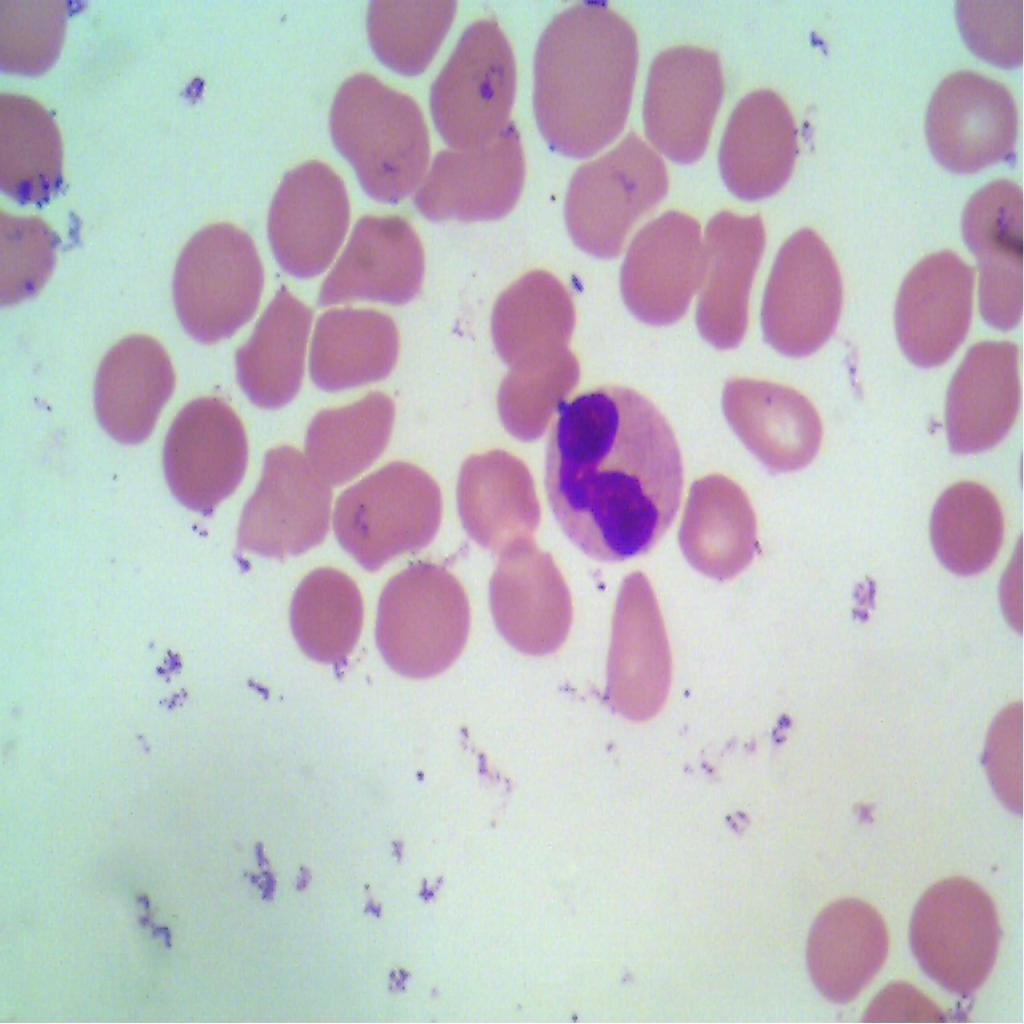Eritrosit: (529, 4, 641, 161), (326, 61, 434, 207), (544, 127, 666, 252), (591, 564, 679, 726), (72, 322, 178, 452), (681, 194, 766, 354), (921, 467, 1018, 604), (229, 429, 329, 561), (754, 221, 848, 360), (878, 239, 976, 372), (908, 867, 1003, 1001), (716, 81, 809, 216), (335, 456, 442, 570), (162, 218, 263, 338), (423, 127, 535, 235), (719, 360, 824, 474), (446, 440, 538, 568), (914, 64, 1020, 175), (375, 557, 468, 678), (264, 154, 350, 284), (320, 212, 426, 314), (646, 38, 729, 168), (939, 340, 1023, 468), (230, 291, 313, 418), (282, 558, 368, 680), (422, 17, 511, 134), (484, 343, 583, 447), (162, 401, 252, 515), (675, 476, 768, 586), (490, 532, 570, 657), (802, 892, 890, 1005), (623, 210, 704, 325), (311, 298, 406, 394), (302, 384, 395, 482), (481, 258, 566, 365), (0, 89, 69, 211), (956, 177, 1023, 281)
Neutrofil: (546, 382, 686, 564)
